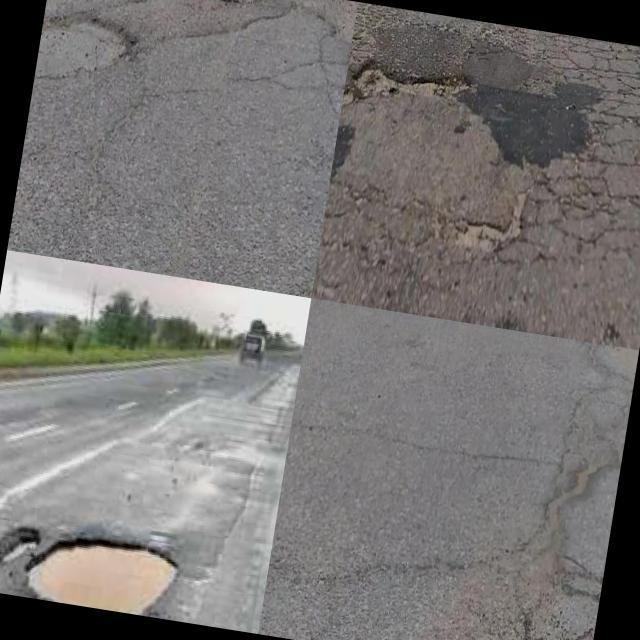Pothole: (20, 539, 178, 616), (34, 9, 140, 83), (349, 57, 478, 103), (0, 530, 38, 568)
